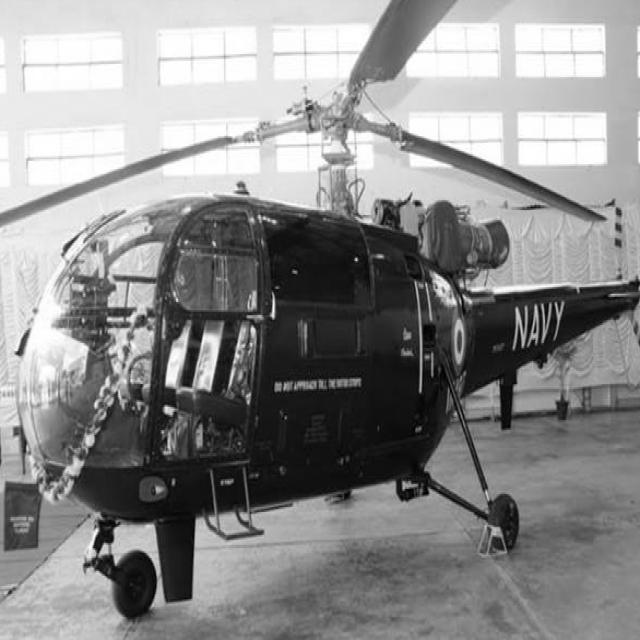helicopter: (1, 19, 640, 639)
